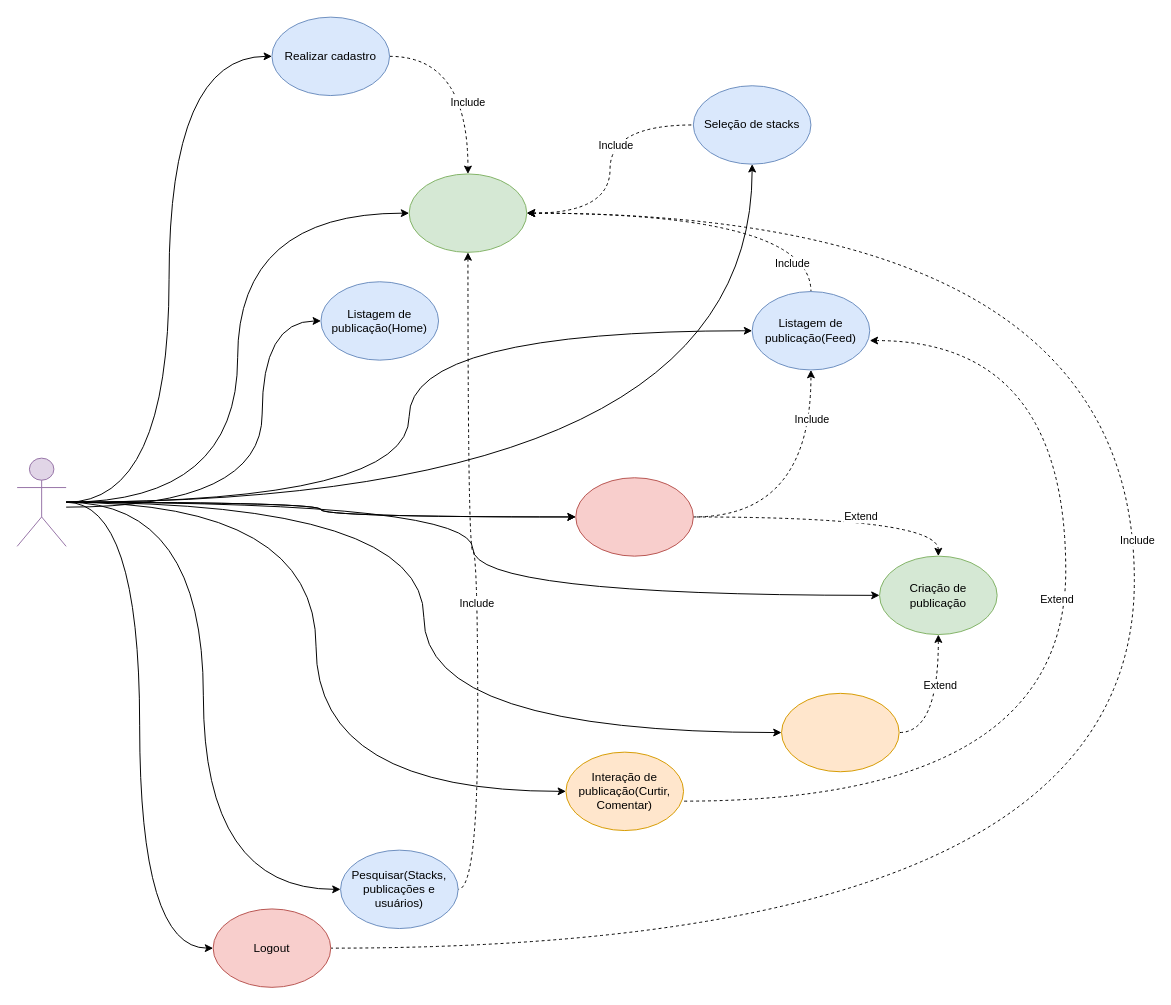
Some shapes in this 1171 by 1005 pixel diagram are drawn without their labels. The box of each missing label's shape, as (x1, y1, x2, y2) in pixels:
Deletar publicação: (575, 477, 693, 556)
Edição de publicação: (781, 692, 899, 772)
Fazer Login: (408, 173, 527, 252)
Usuário: (16, 457, 66, 546)
